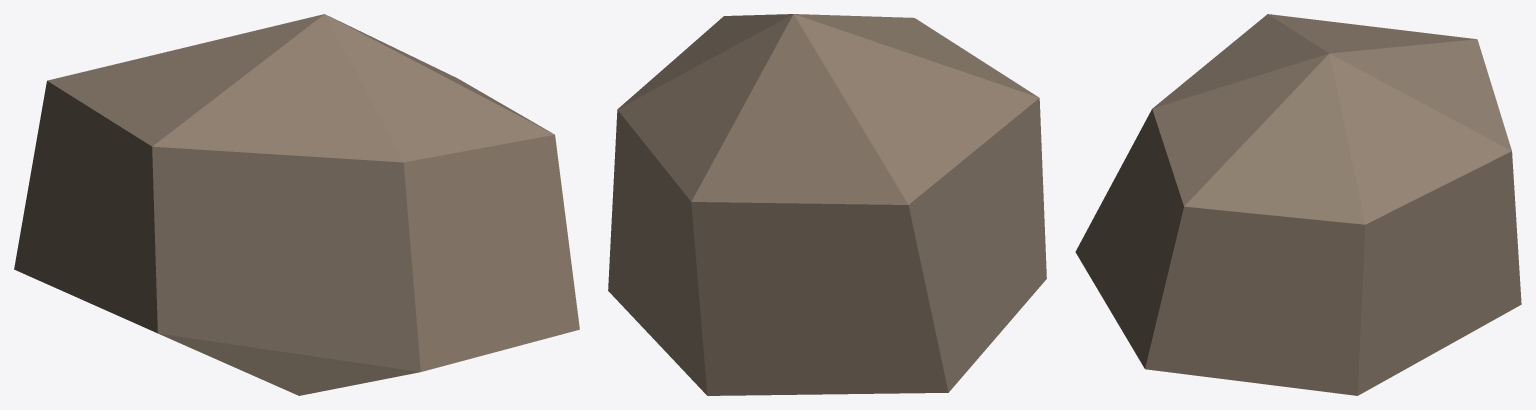
The model's file is roca_grande.glb.
The picture shows the model from 3 angles, left to right: view 1: azimuth 30°, elevation 25°; view 2: azimuth 150°, elevation 25°; view 3: azimuth 270°, elevation 25°; orthographic projection. The views are drawn at different scales.
Visible parts, largest first — view 1: Rock_0; view 2: Rock_0; view 3: Rock_0.
Part boxes in pixels (box(x1,y1,x2,y2)): Rock_0: box(14, 14, 579, 395); Rock_0: box(608, 14, 1046, 395); Rock_0: box(1075, 14, 1521, 395).
Size of the model in its own units: 1.96 by 1.69 by 2.13.
